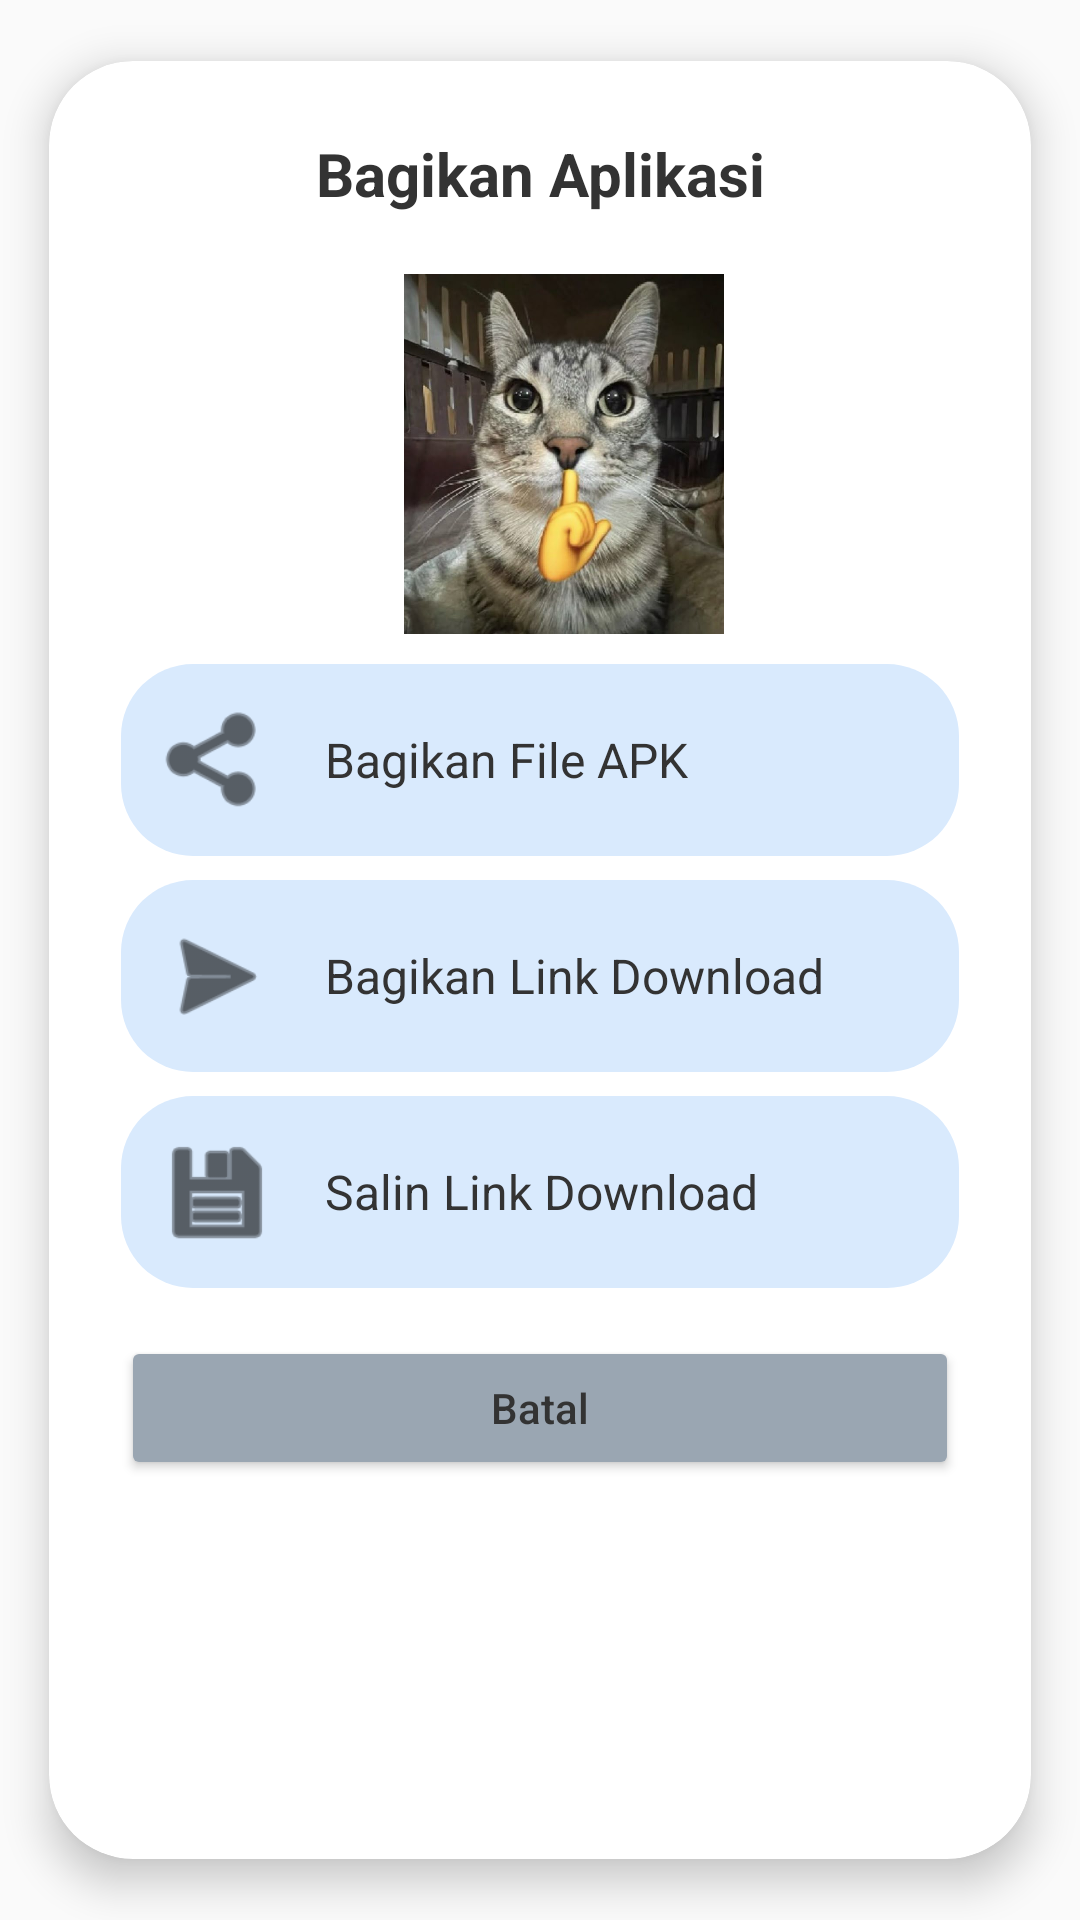

Screen size 1080x1920. Icon name, then its center in pixels as point (x, y):
Opsi bagikan link unduhan: point (218, 977)
